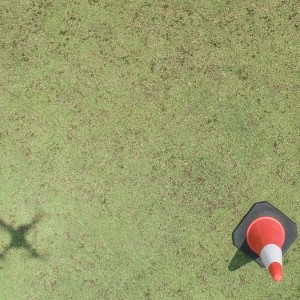traffic cone: (232, 201, 297, 280)
